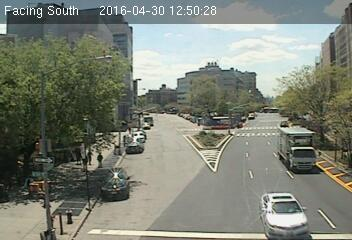neg: (118, 118, 140, 147), (42, 100, 62, 127), (80, 10, 98, 34), (198, 163, 214, 184), (236, 128, 250, 147), (163, 19, 177, 38), (270, 132, 283, 149), (120, 10, 132, 25), (279, 86, 290, 101), (72, 43, 83, 58), (201, 132, 212, 146), (38, 58, 48, 71), (245, 85, 254, 98), (37, 151, 46, 164), (188, 95, 197, 107), (217, 90, 226, 102), (118, 181, 127, 193), (164, 176, 173, 188), (173, 126, 179, 134), (87, 192, 92, 199)
pos: (79, 145, 95, 166), (92, 151, 104, 166)
